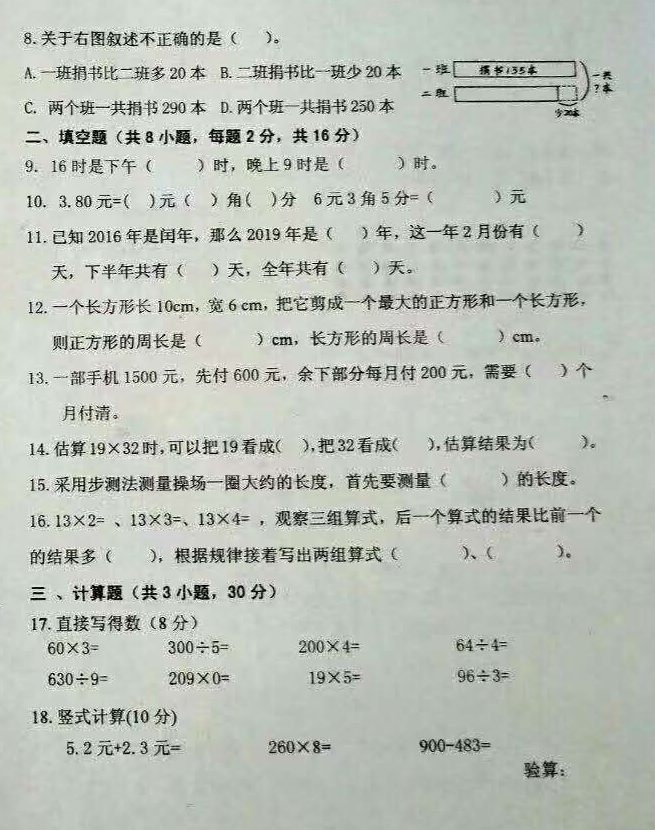text: (20, 541, 577, 569), (24, 290, 592, 317), (22, 433, 604, 457), (27, 361, 593, 385), (26, 223, 593, 245), (23, 506, 607, 527), (47, 328, 547, 351), (22, 469, 577, 489), (57, 734, 501, 758), (26, 188, 533, 209), (43, 665, 514, 686), (22, 58, 411, 83), (25, 155, 442, 178), (40, 637, 518, 656), (47, 258, 418, 280), (22, 125, 366, 145), (20, 25, 287, 50), (17, 98, 400, 115), (26, 582, 281, 606), (31, 706, 185, 731), (29, 611, 201, 633), (56, 400, 129, 428), (520, 756, 576, 785)
